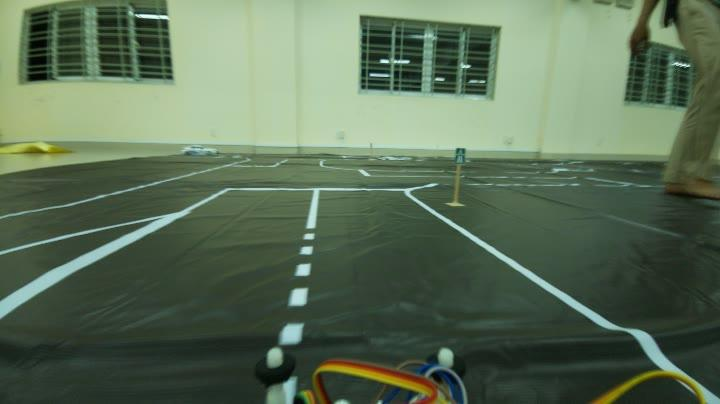highway_entry: (449, 140, 469, 168)
